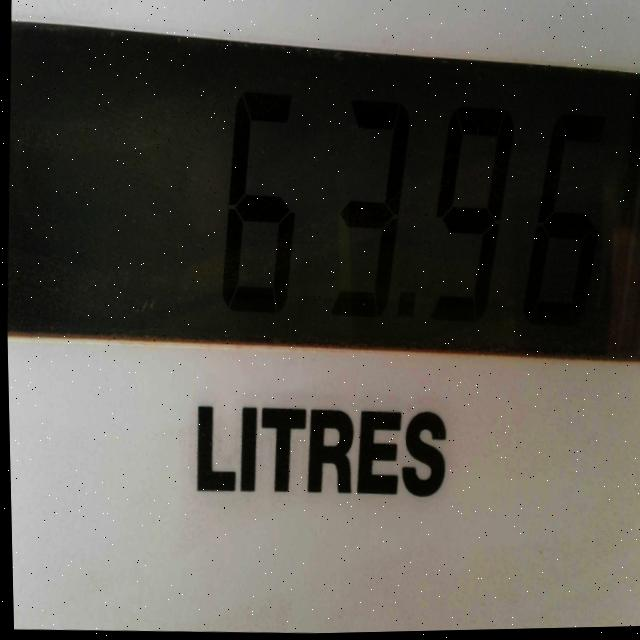.: (385, 268, 423, 339)
3: (310, 65, 421, 341)
6: (201, 79, 312, 346), (509, 99, 620, 353)
9: (411, 91, 525, 335)
